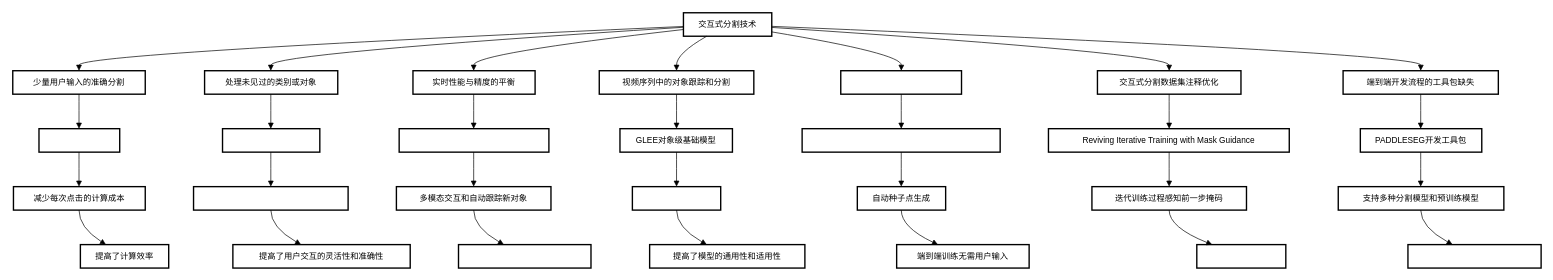
Some shapes in this 1553 by 280 pixel diagram are drawn without their labels. Here are the shapes that lost their labels. From the top down, the centre of each, then its label:
the point at 901,82: 医学图像低对比度分割
the point at 79,140: f-BRS优化方法
the point at 270,140: MiVOS模块化框架
the point at 473,140: SAM-Track统一视频分割框架
the point at 900,140: Interactive Deep Refinement Network
the point at 270,198: 用户意图在传播过程中的考虑
the point at 676,198: 零样本迁移性能
the point at 524,256: 提高了分割和跟踪的精度
the point at 1241,256: 提高模型稳定性
the point at 1474,256: 集成模型压缩和推理引擎
